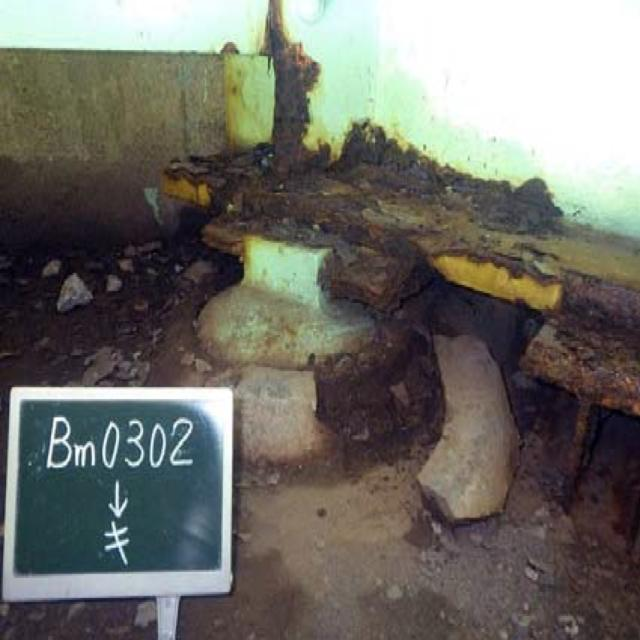corrosion: (184, 37, 619, 427)
